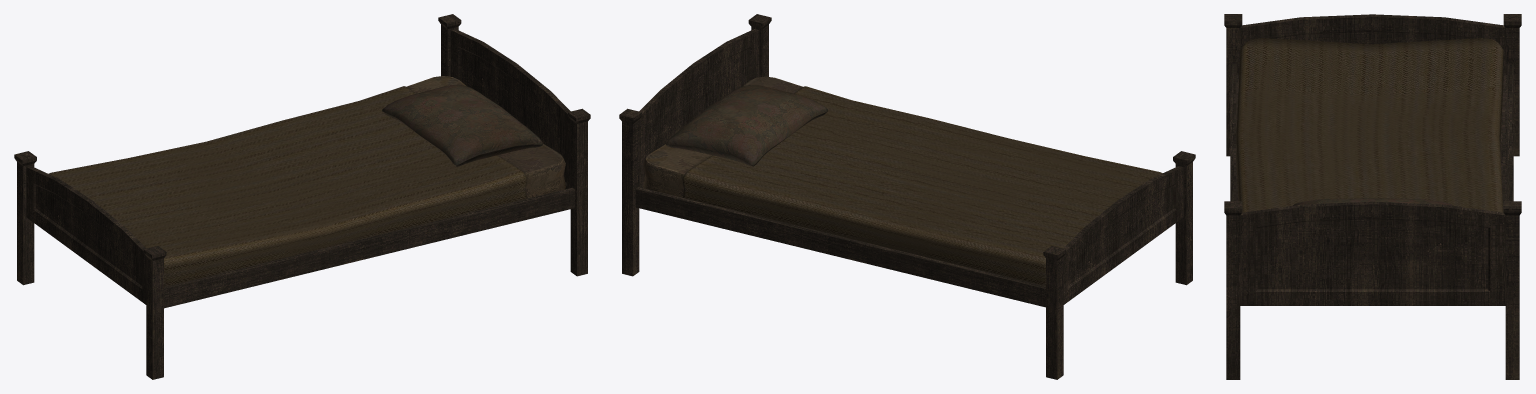
The model's file is bed_5_2.glb.
3 views of the same model, side by side, from view 1: azimuth 30°, elevation 25°; view 2: azimuth 150°, elevation 25°; view 3: azimuth 270°, elevation 25° (orthographic). The views are drawn at different scales.
Parts seen in each view (by area): view 1: bed_5_2; view 2: bed_5_2; view 3: bed_5_2.
Part boxes in pixels (x1,y1,x2,y2): bed_5_2: [14, 14, 590, 379]; bed_5_2: [619, 14, 1195, 379]; bed_5_2: [1224, 14, 1521, 379].
Size of the model in its own units: 2.74 by 0.9621 by 1.49.
Materials: 3 (3 with a texture image).
